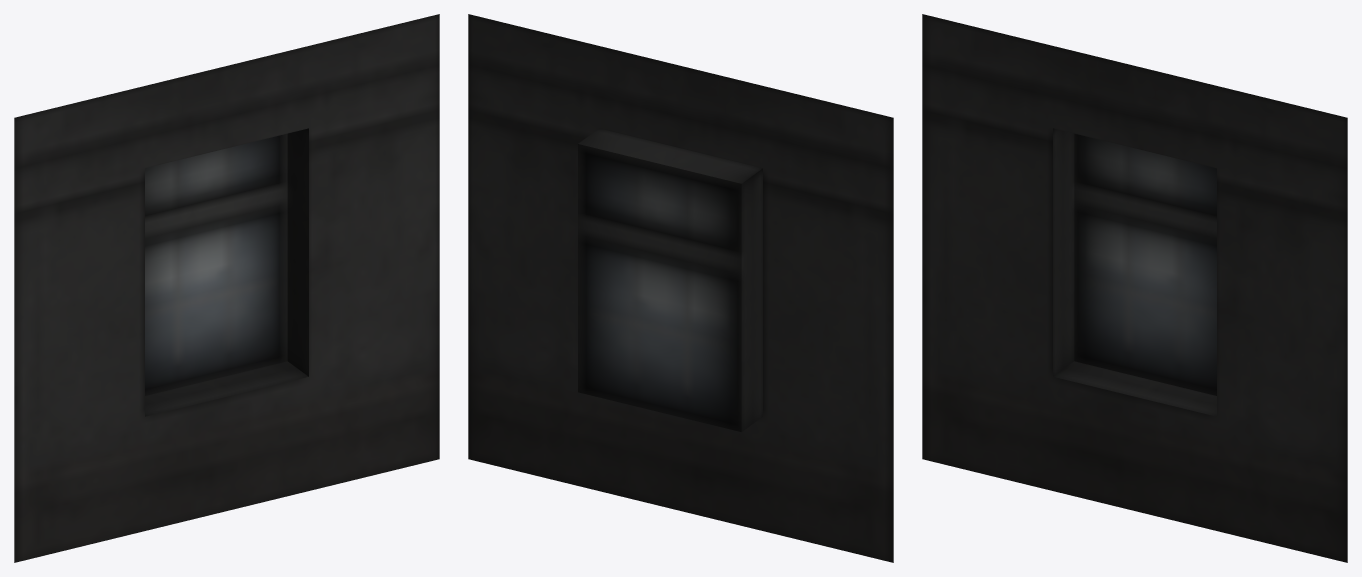
File: B9_WindowA.FBX
3 renders of one model, left to right at view 1: azimuth 30°, elevation 25°; view 2: azimuth 150°, elevation 25°; view 3: azimuth 330°, elevation 25°, orthographic.
Parts seen in each view (by area): view 1: B9_WindowA; view 2: B9_WindowA; view 3: B9_WindowA.
Boxes of the visible parts, x1,y1,x2,y2 form: B9_WindowA: [14, 14, 439, 562]; B9_WindowA: [468, 14, 893, 562]; B9_WindowA: [922, 14, 1347, 562].
Bounding box in the file's own units: 4 × 4 × 0.3451.
